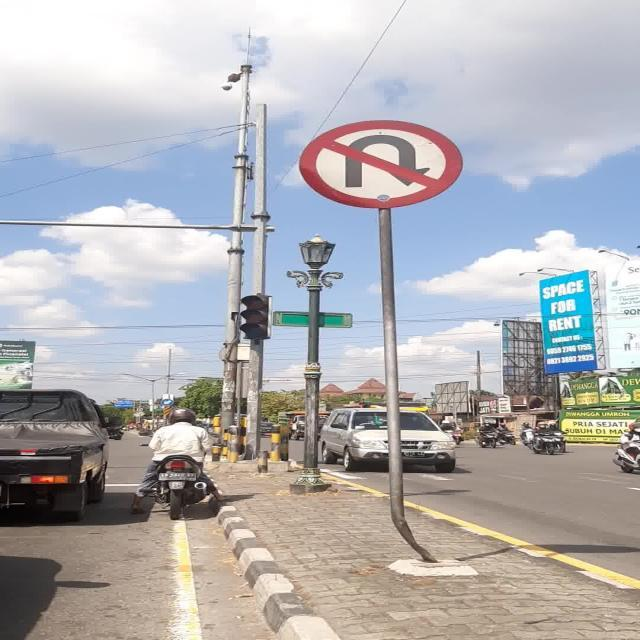Dilarang Putar Balik: (298, 120, 464, 208)
